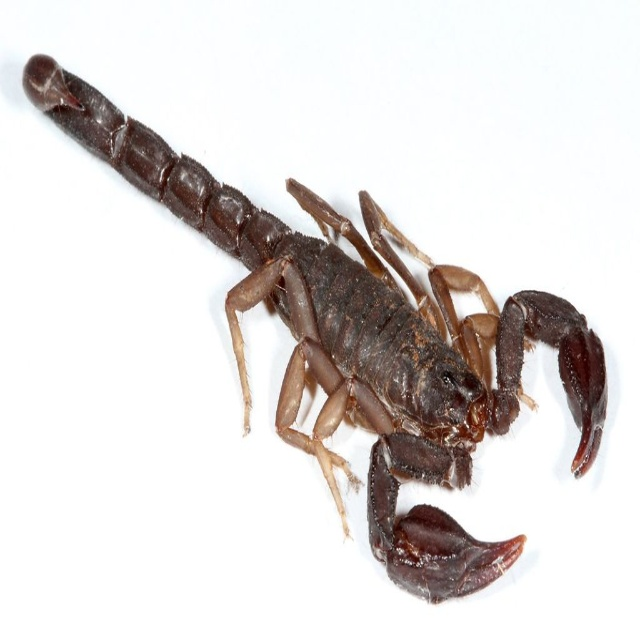Scorpion: (19, 50, 606, 604)
